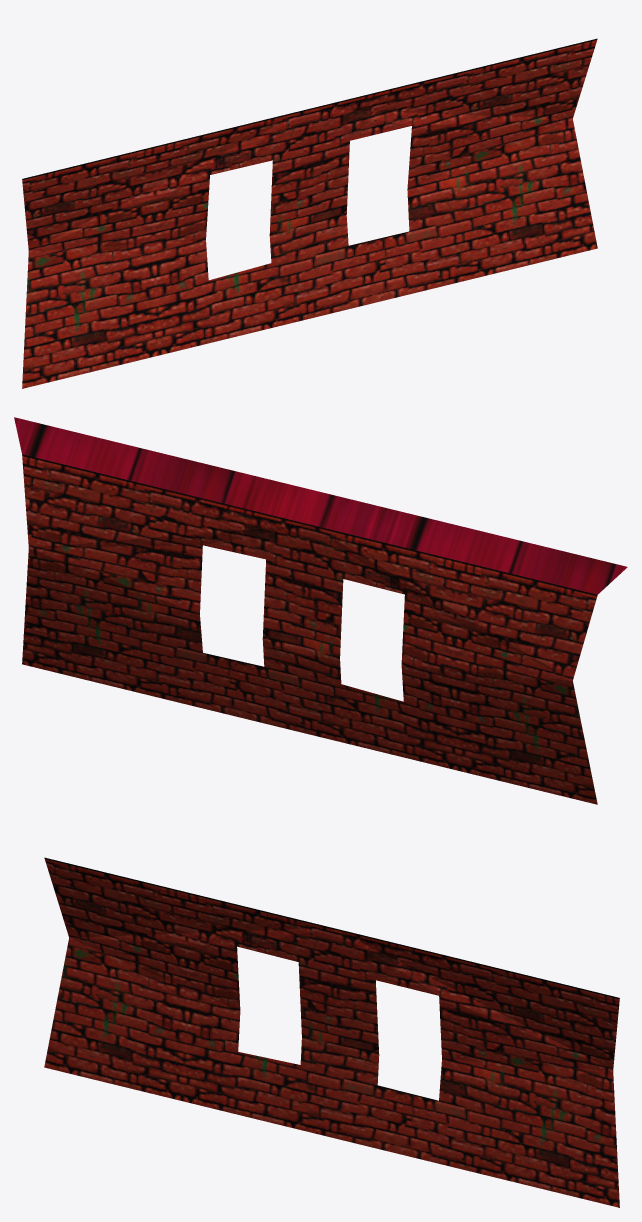
The model's file is W_A1_xffx [Ziegel]_2038.glb.
3 renders of one model, top to bottom at view 1: azimuth 30°, elevation 25°; view 2: azimuth 150°, elevation 25°; view 3: azimuth 330°, elevation 25°, orthographic.
Visible parts, largest first — view 1: polySurfaceShape807; view 2: polySurfaceShape807, polySurfaceShape1019; view 3: polySurfaceShape807.
Boxes of the visible parts, x1,y1,x2,y2 form: polySurfaceShape807: (22, 38, 597, 388); polySurfaceShape807: (22, 454, 597, 804); polySurfaceShape1019: (14, 417, 627, 594); polySurfaceShape807: (44, 857, 619, 1207).
Bounding box in the file's own units: 1.07 × 0.3891 × 0.0607.
2 materials, 2 textured.
